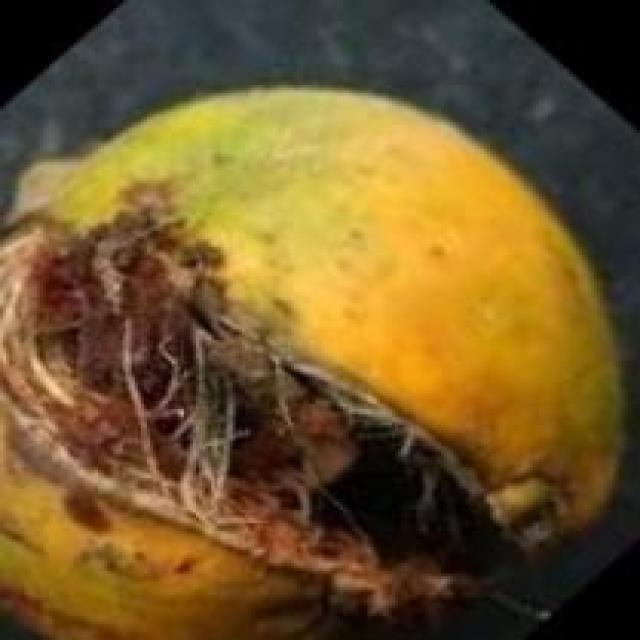damaged: (0, 88, 619, 637)
